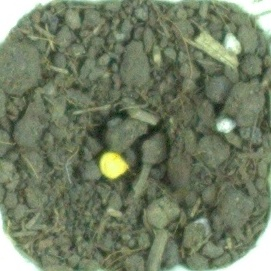pepper seed: (31, 59, 162, 240)
